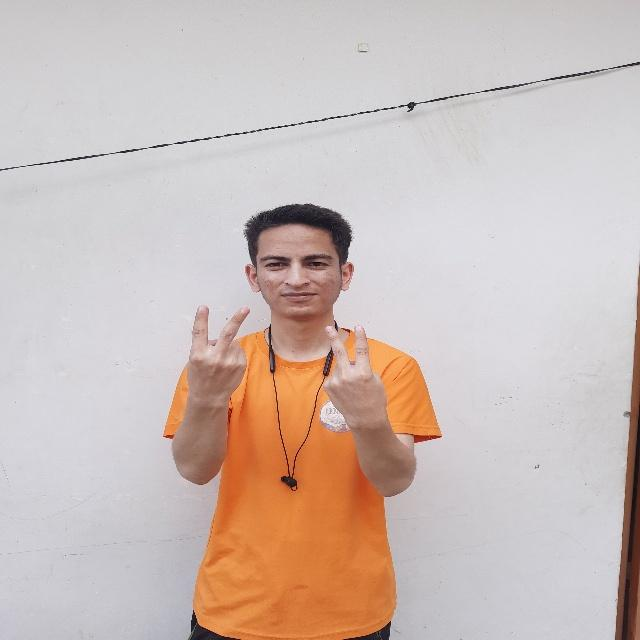Reversed Victory: (178, 297, 258, 426), (314, 322, 395, 438)
